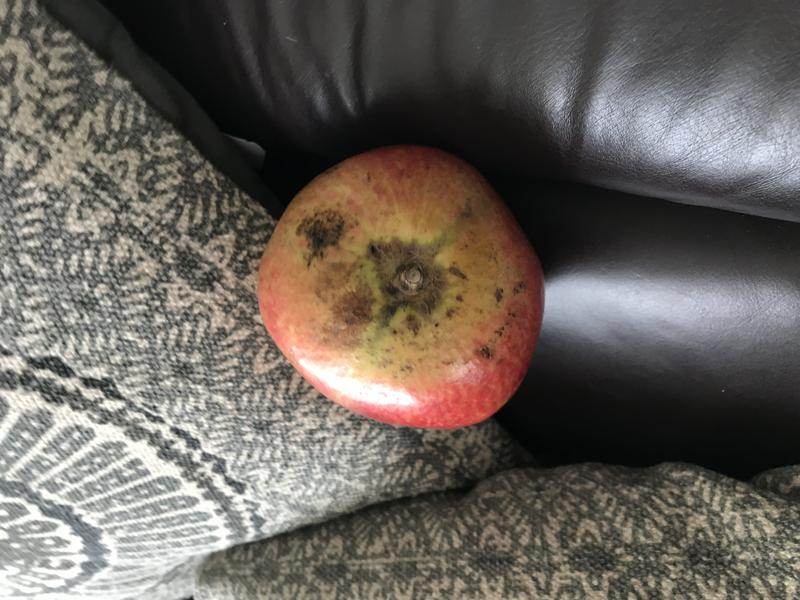pomegranate: (248, 133, 554, 446)
